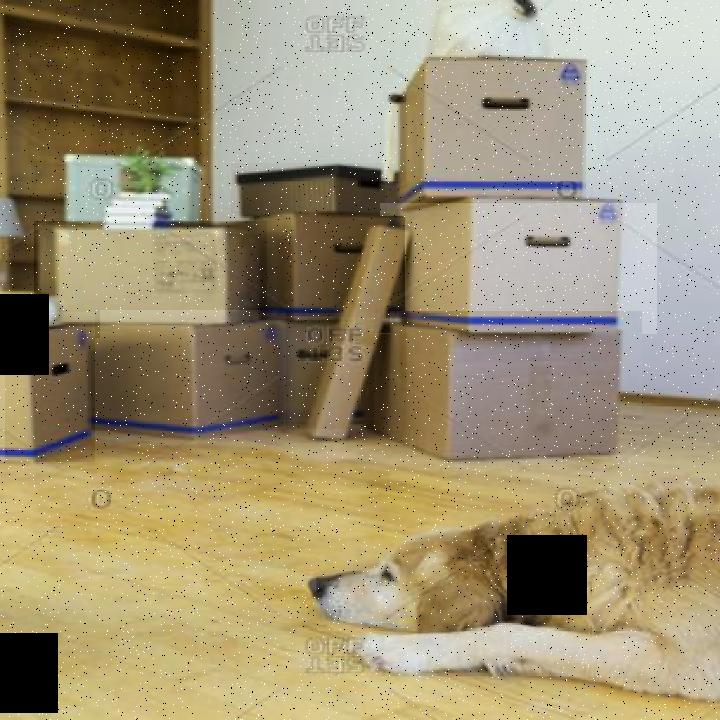box: (390, 311, 642, 489), (380, 203, 657, 334), (380, 40, 582, 209), (34, 221, 267, 338), (100, 310, 286, 455), (254, 216, 405, 333), (5, 312, 95, 462), (277, 317, 374, 429), (231, 163, 385, 216)
